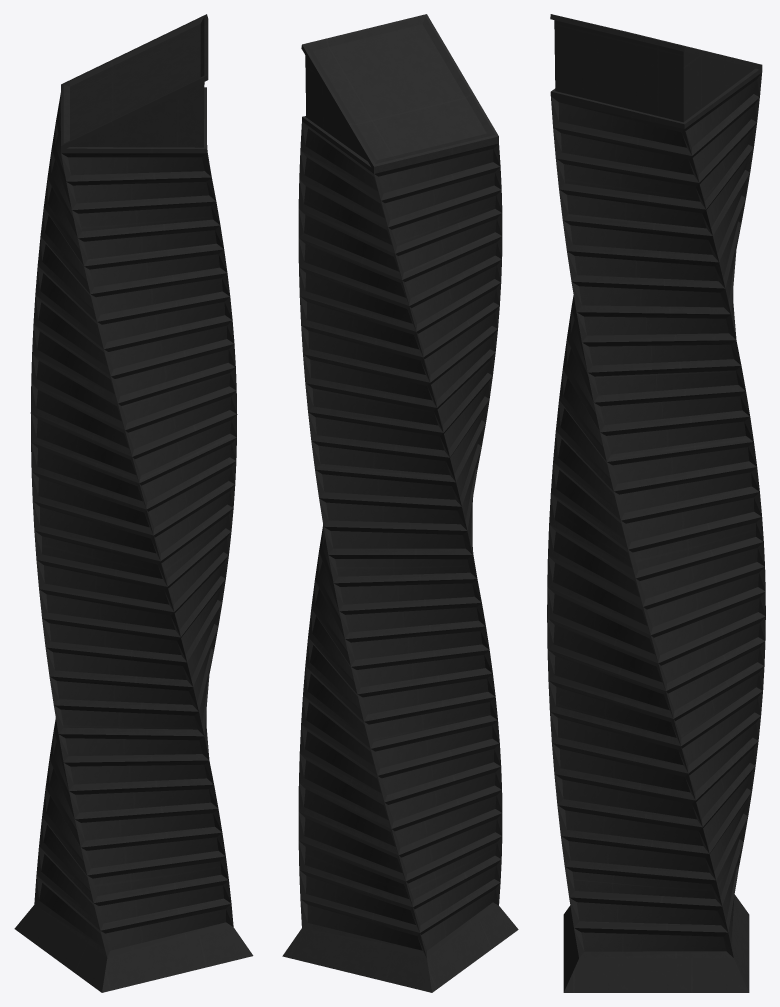
The model's file is bldg_sKy-S_000.FBX.
3 renders of one model, left to right at view 1: azimuth 30°, elevation 25°; view 2: azimuth 150°, elevation 25°; view 3: azimuth 270°, elevation 25°, orthographic. The views are drawn at different scales.
Visible parts, largest first — view 1: bldg_SKY-S_000; view 2: bldg_SKY-S_000; view 3: bldg_SKY-S_000.
Boxes of the visible parts, x1,y1,x2,y2 form: bldg_SKY-S_000: [14, 14, 253, 992]; bldg_SKY-S_000: [282, 14, 518, 992]; bldg_SKY-S_000: [547, 14, 765, 992].
Size of the model in its own units: 21.55 by 103 by 21.55.
1 material, 1 textured.
